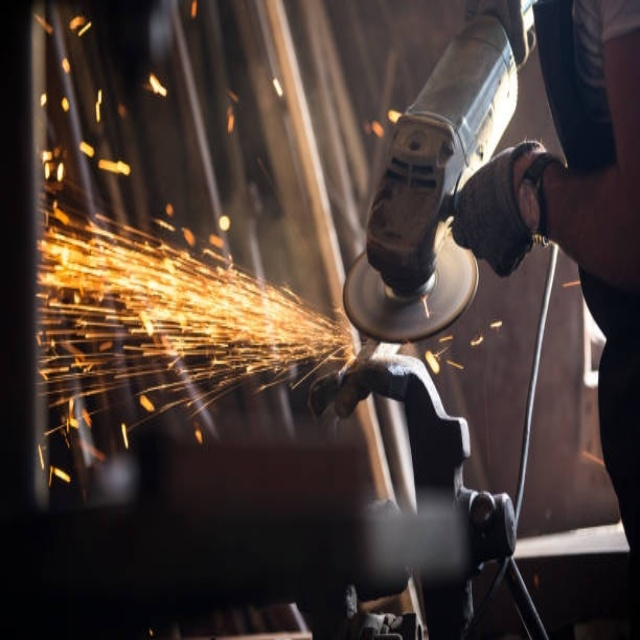Guantes: (451, 139, 559, 280)
